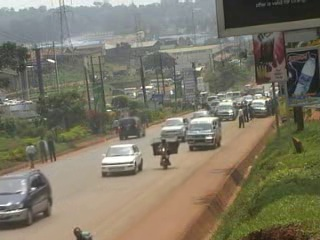Car: (0, 167, 57, 226), (94, 139, 146, 178), (159, 116, 193, 143), (116, 115, 149, 139), (190, 109, 213, 122)
Motorcycle: (148, 136, 181, 168)
